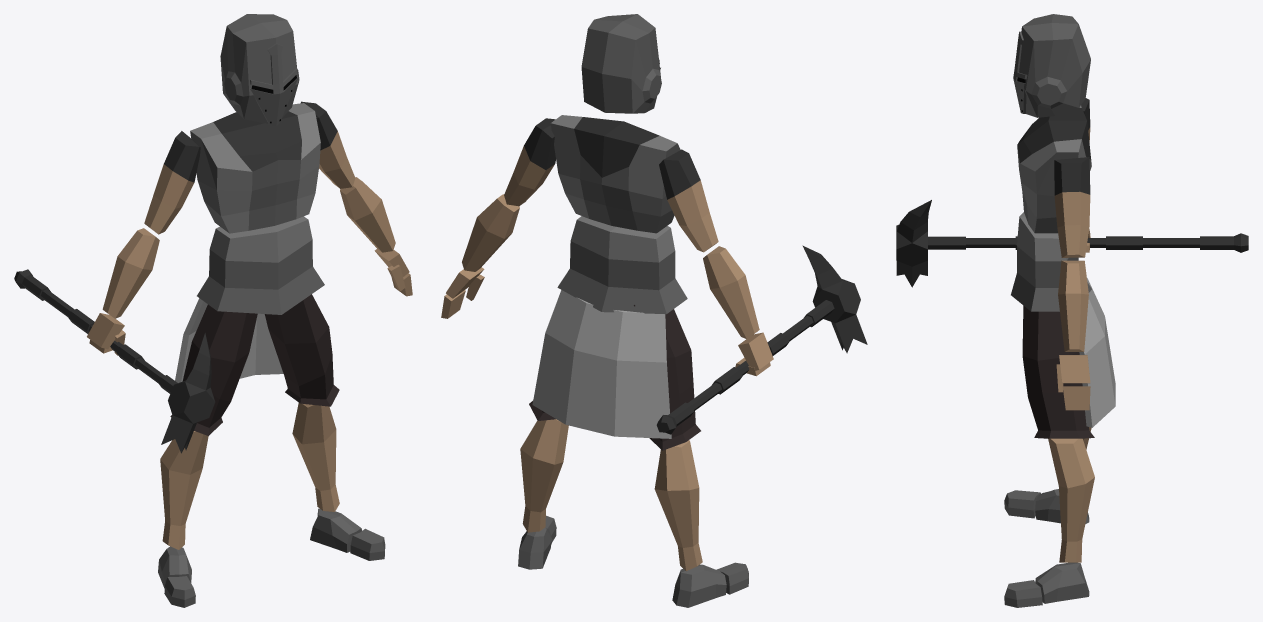
Rendered from FoppishKnight.fbx.
The picture shows the model from 3 angles, left to right: view 1: azimuth 30°, elevation 25°; view 2: azimuth 150°, elevation 25°; view 3: azimuth 270°, elevation 25°; orthographic projection. The views are drawn at different scales.
Visible parts, largest first — view 1: polySurface52, polySurface53, helmet:dont_worry:Colosseium_Guy:polySurface59, polySurface51, Polynex_Obj_Maul_Poly_Freund:polySurface1, polySurface45, polySurface44, polySurface50, polySurface47, polySurface46, pCube1, polySurface54 (+7 smaller); view 2: pCube1, polySurface52, polySurface53, helmet:dont_worry:Colosseium_Guy:polySurface59, Polynex_Obj_Maul_Poly_Freund:polySurface1, polySurface44, polySurface50, polySurface47, polySurface45, polySurface46, polySurface55, polySurface54 (+4 smaller); view 3: helmet:dont_worry:Colosseium_Guy:polySurface59, polySurface52, polySurface51, Polynex_Obj_Maul_Poly_Freund:polySurface1, polySurface50, polySurface53, polySurface55, pCube1, polySurface54, polySurface49, polySurface48, polySurface56 (+4 smaller).
Boxes of the visible parts, x1,y1,x2,y2 form: polySurface52: (190,103,320,233); polySurface53: (197,216,324,314); helmet:dont_worry:Colosseium_Guy:polySurface59: (220,14,299,123); polySurface51: (264,294,339,406); Polynex_Obj_Maul_Poly_Freund:polySurface1: (14,269,215,453); polySurface45: (170,304,257,435); polySurface44: (160,431,208,549); polySurface50: (292,403,339,511); polySurface47: (144,131,200,234); polySurface46: (102,228,159,318); pCube1: (175,298,283,382); polySurface54: (340,177,395,252); pCube1: (532,290,671,438); polySurface52: (550,115,680,233); polySurface53: (557,216,687,314); helmet:dont_worry:Colosseium_Guy:polySurface59: (581,14,661,113); Polynex_Obj_Maul_Poly_Freund:polySurface1: (656,245,867,434); polySurface44: (654,440,702,571); polySurface50: (520,419,568,532); polySurface47: (659,149,718,252); polySurface45: (634,305,700,450); polySurface46: (703,246,759,339); polySurface55: (504,118,555,206); polySurface54: (462,194,519,271); helmet:dont_worry:Colosseium_Guy:polySurface59: (1019,14,1090,117); polySurface52: (1017,105,1091,233); polySurface51: (1022,305,1094,438); Polynex_Obj_Maul_Poly_Freund:polySurface1: (896,200,1248,287); polySurface50: (1048,438,1094,562); polySurface53: (1011,212,1091,311); polySurface55: (1054,157,1090,257); pCube1: (1079,278,1115,427); polySurface54: (1058,260,1088,351); polySurface49: (1035,562,1089,603); polySurface48: (1004,580,1042,607); polySurface56: (1059,355,1090,383).
Bounding box in the file's own units: 4.36 × 6.86 × 4.1.
